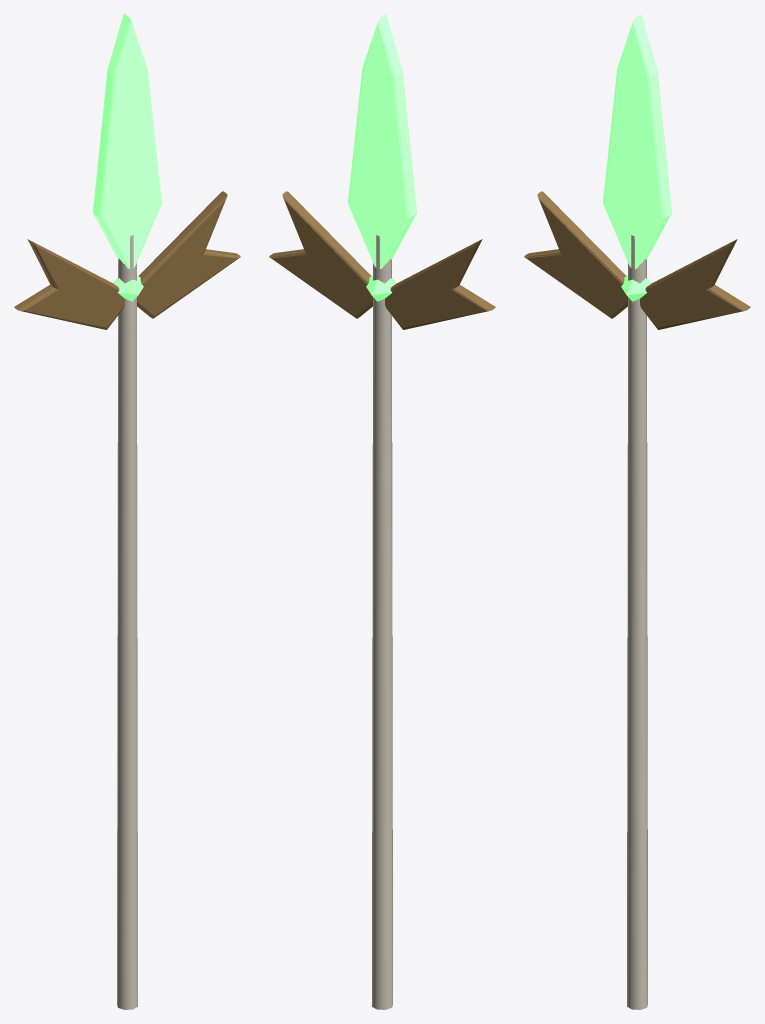
File: spear_f3_ce9a88d8.glb
3 renders of one model, left to right at view 1: azimuth 30°, elevation 25°; view 2: azimuth 150°, elevation 25°; view 3: azimuth 330°, elevation 25°, orthographic.
Parts seen in each view (by area): view 1: m0_ow80_, m1_, m3_ow80_; view 2: m0_ow80_, m1_, m3_ow80_; view 3: m0_ow80_, m1_, m3_ow80_.
Boxes of the visible parts, <box> form: m0_ow80_: <box>117,235,137,1009</box>; m1_: <box>93,14,161,268</box>; m3_ow80_: <box>14,191,240,329</box>; m0_ow80_: <box>372,235,392,1009</box>; m1_: <box>348,14,416,269</box>; m3_ow80_: <box>269,191,495,329</box>; m0_ow80_: <box>627,235,647,1009</box>; m1_: <box>603,14,671,269</box>; m3_ow80_: <box>524,191,750,329</box>.
Bounding box in the file's own units: 0.9339 × 3.97 × 0.16.
